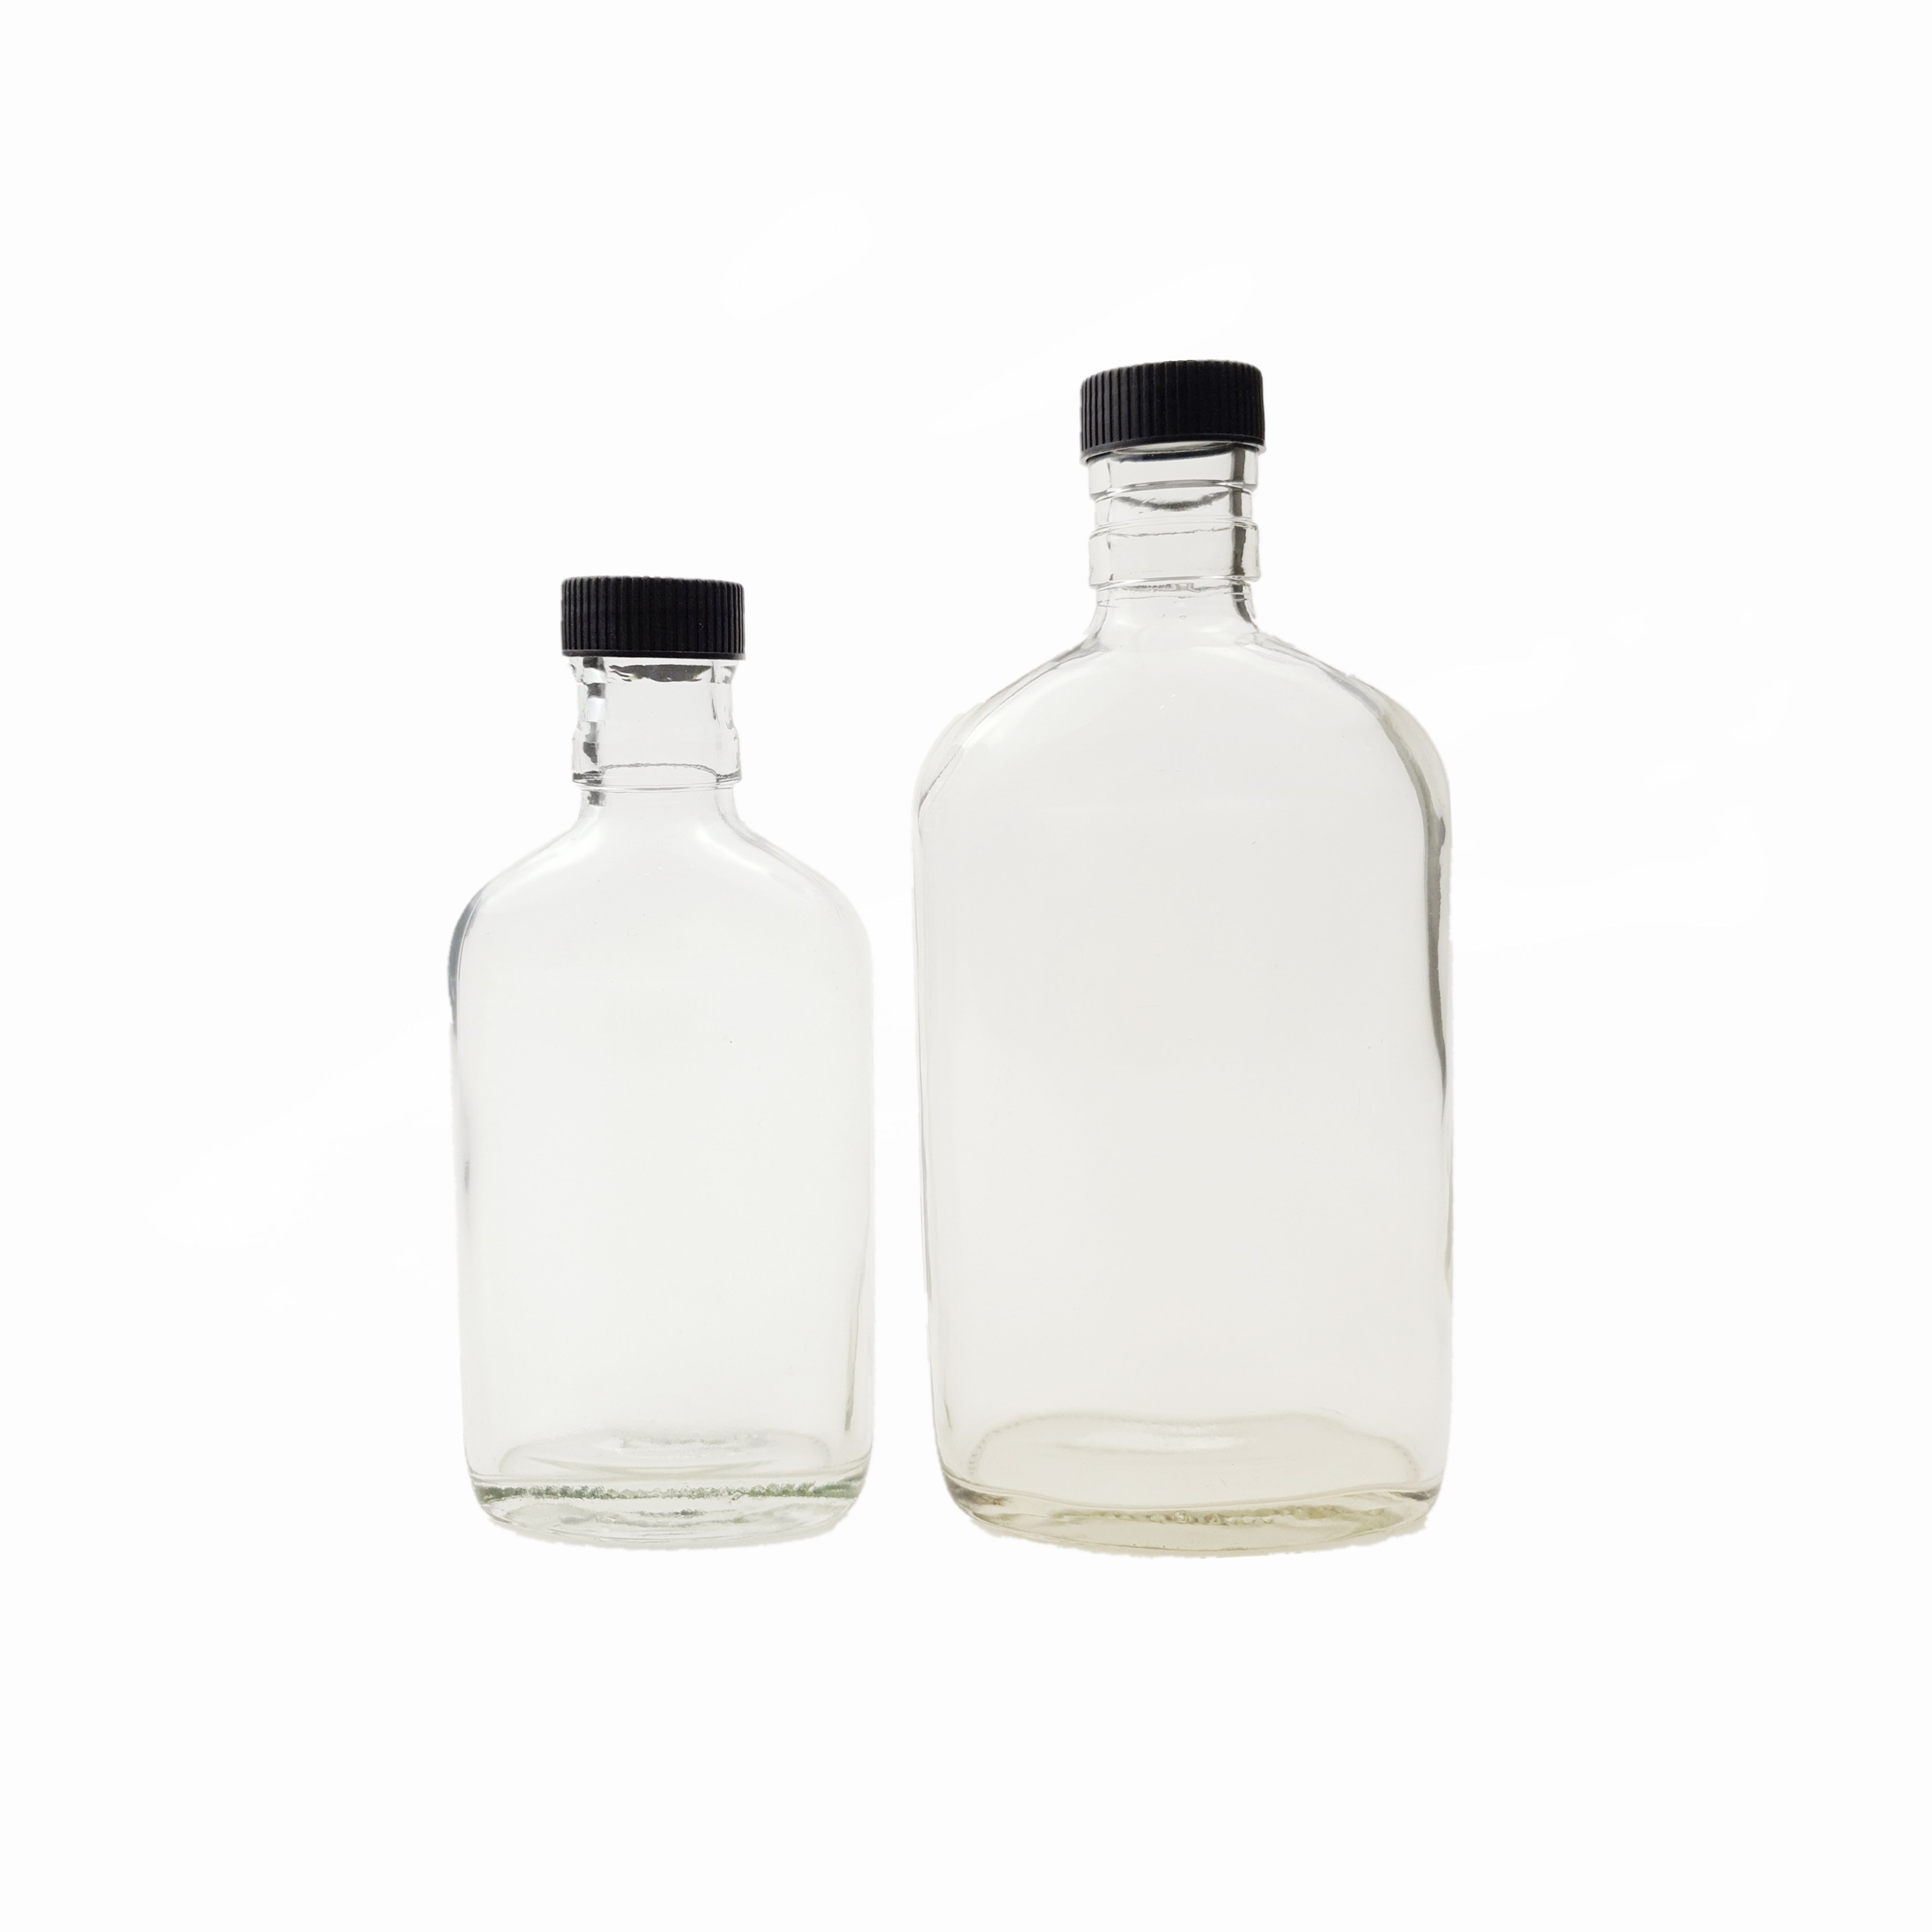glass_bottle: (906, 347, 1486, 1578), (426, 566, 893, 1573)
